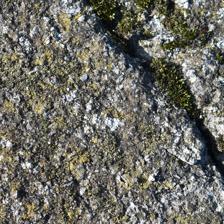Crack: (87, 7, 220, 162)
